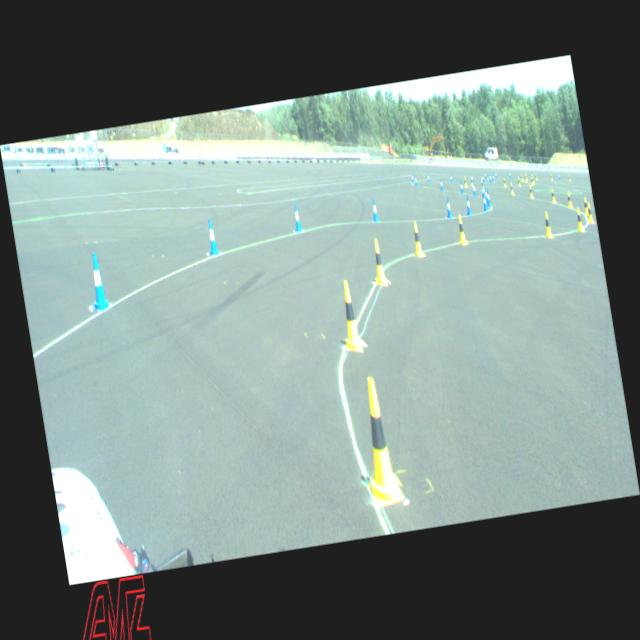blue_cone: (84, 252, 112, 312), (203, 218, 220, 256), (292, 204, 302, 232), (370, 198, 379, 222), (444, 196, 452, 218), (464, 195, 472, 216), (484, 188, 492, 206), (481, 193, 488, 211), (480, 184, 486, 200), (459, 180, 464, 193), (484, 188, 488, 202), (426, 174, 431, 184), (472, 184, 476, 196), (440, 179, 444, 191), (414, 176, 418, 187), (410, 174, 414, 183), (449, 175, 453, 184), (489, 173, 492, 183), (484, 171, 487, 180), (471, 174, 474, 183), (558, 173, 561, 180), (492, 173, 494, 182), (482, 174, 484, 183), (509, 172, 511, 179), (496, 171, 498, 178), (531, 172, 533, 178)
yellow_cone: (351, 374, 405, 508), (336, 278, 364, 352), (369, 238, 387, 285), (410, 221, 424, 258), (455, 213, 468, 244), (542, 210, 554, 238), (574, 206, 584, 232), (586, 202, 594, 224), (582, 197, 589, 215), (567, 192, 573, 208), (550, 189, 556, 202), (528, 186, 534, 198), (510, 182, 515, 195), (463, 177, 468, 188), (481, 180, 485, 190), (518, 177, 522, 186), (530, 176, 534, 185), (503, 178, 506, 188), (534, 173, 538, 180), (520, 174, 523, 182), (524, 175, 527, 182), (550, 174, 553, 181), (470, 176, 472, 186), (532, 175, 534, 184), (526, 173, 528, 182), (569, 174, 571, 182)
